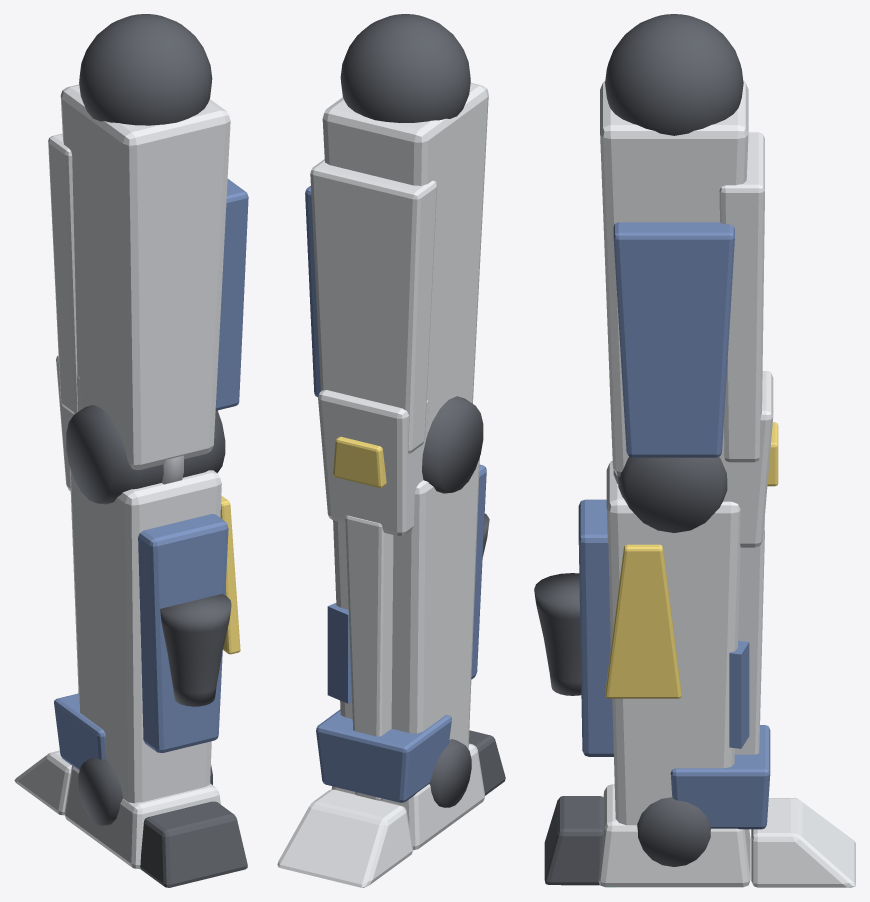
The model's file is leg_fast_r.glb.
3 views of the same model, side by side, from view 1: azimuth 30°, elevation 25°; view 2: azimuth 150°, elevation 25°; view 3: azimuth 270°, elevation 25° (orthographic). The views are drawn at different scales.
Visible parts, largest first — view 1: thigh, shin, calf, hip_joint, heel, knee, calf_thruster, thigh_front, thigh_side, foot, ankle_guard, ankle (+4 smaller); view 2: thigh_front, thigh, shin, hip_joint, knee_cap, shin_ridge, toe, ankle_guard, knee, foot, shin_vent, knee_trim (+4 smaller); view 3: thigh_side, shin, thigh, hip_joint, thigh_front, shin_fin, calf, toe, foot, knee, ankle_guard, heel (+5 smaller).
Part boxes in pixels (x1,y1,x2,y2): thigh: (60,84,230,469); shin: (69,467,221,803); calf: (138,514,228,752); hip_joint: (79,14,212,125); heel: (140,801,247,887); knee: (66,405,225,504); calf_thruster: (160,594,231,706); thigh_front: (48,133,77,414); thigh_side: (215,179,248,410); foot: (64,766,220,868); ankle_guard: (54,693,105,770); ankle: (78,757,212,825); thigh_front: (310,159,437,453); thigh: (322,83,488,433); shin: (333,457,479,748); hip_joint: (340,14,470,122); knee_cap: (318,390,428,535); shin_ridge: (345,515,393,800); toe: (277,789,412,887); ankle_guard: (316,709,451,802); knee: (422,396,483,493); foot: (331,743,484,850); shin_vent: (327,603,351,703); knee_trim: (333,436,386,487); thigh_side: (613,222,734,457); shin: (606,461,740,825); thigh: (600,81,748,476); hip_joint: (605,14,743,135); thigh_front: (719,132,764,462); shin_fin: (605,544,681,698); calf: (578,499,613,756); toe: (751,798,855,887); foot: (598,784,750,887); knee: (618,457,727,532); ankle_guard: (670,725,770,829); heel: (544,796,603,885).
Bounding box in the file's own units: 1.77 × 10.29 × 3.55.
